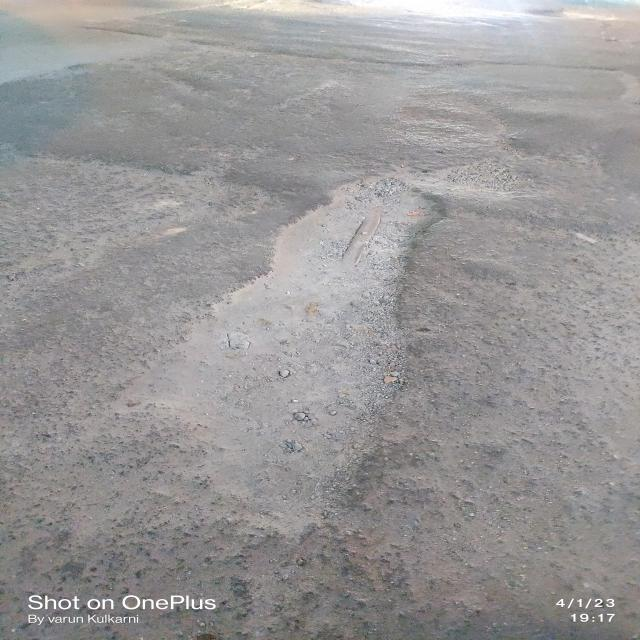potholes: (204, 162, 473, 544)
